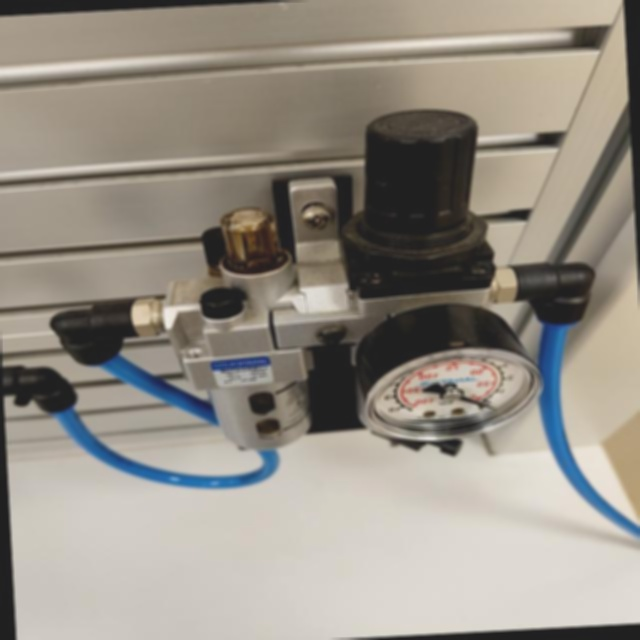FRL unit: (121, 92, 611, 498)
